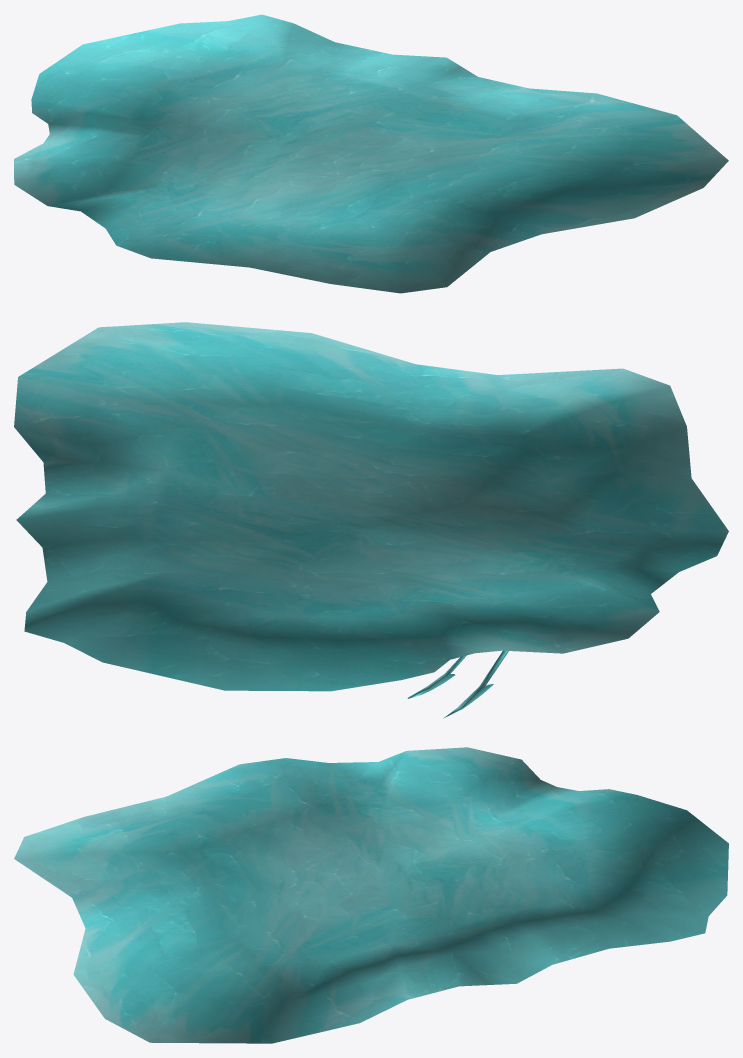
File: ground.obj
3 renders of one model, top to bottom at view 1: azimuth 30°, elevation 25°; view 2: azimuth 150°, elevation 25°; view 3: azimuth 270°, elevation 25°, orthographic. The views are drawn at different scales.
Parts seen in each view (by area): view 1: world/expansion02/doodads/icecrown/frozen/icecrown_frozenwurm_01; view 2: world/expansion02/doodads/icecrown/frozen/icecrown_frozenwurm_01; view 3: world/expansion02/doodads/icecrown/frozen/icecrown_frozenwurm_01.
Boxes of the visible parts, box(x1,y1,x2,y2) form: world/expansion02/doodads/icecrown/frozen/icecrown_frozenwurm_01: box(14, 14, 728, 293); world/expansion02/doodads/icecrown/frozen/icecrown_frozenwurm_01: box(14, 322, 728, 718); world/expansion02/doodads/icecrown/frozen/icecrown_frozenwurm_01: box(14, 747, 728, 1043).
Bounding box in the file's own units: 99.27 × 12.55 × 102.
1 material, 1 textured.
